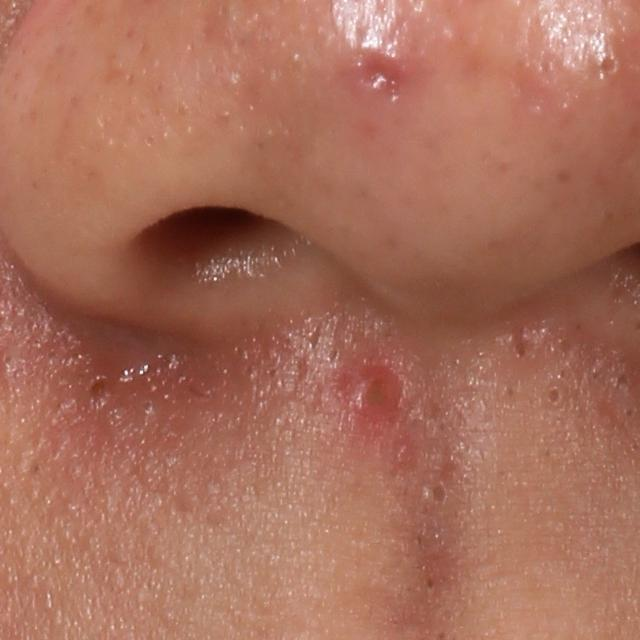comedo: (536, 380, 568, 412), (610, 370, 633, 392)
papule: (343, 364, 405, 425)
